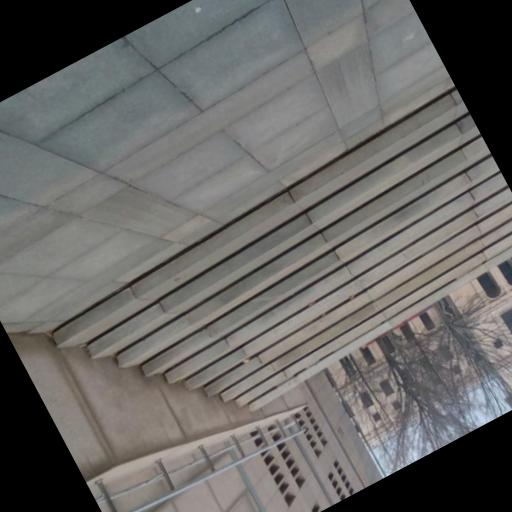stairs: (54, 89, 511, 407)
